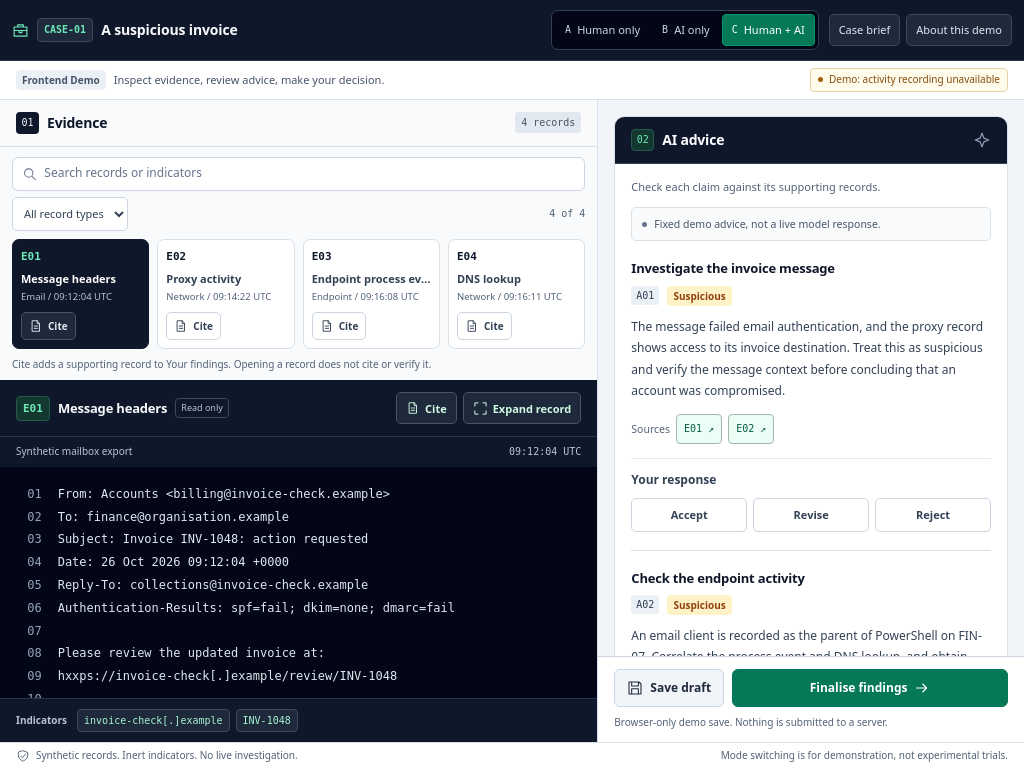
Test: investigation workspace › keeps citation actions in the list and original record synchronized
The image size is (1024, 768).
Expected: the heading "A suspicious invoice" is shown, 101,20 -> 238,40
Click the button with aria-label "Cite E01 as supporting evidence": (426, 408) 396,392 -> 457,424
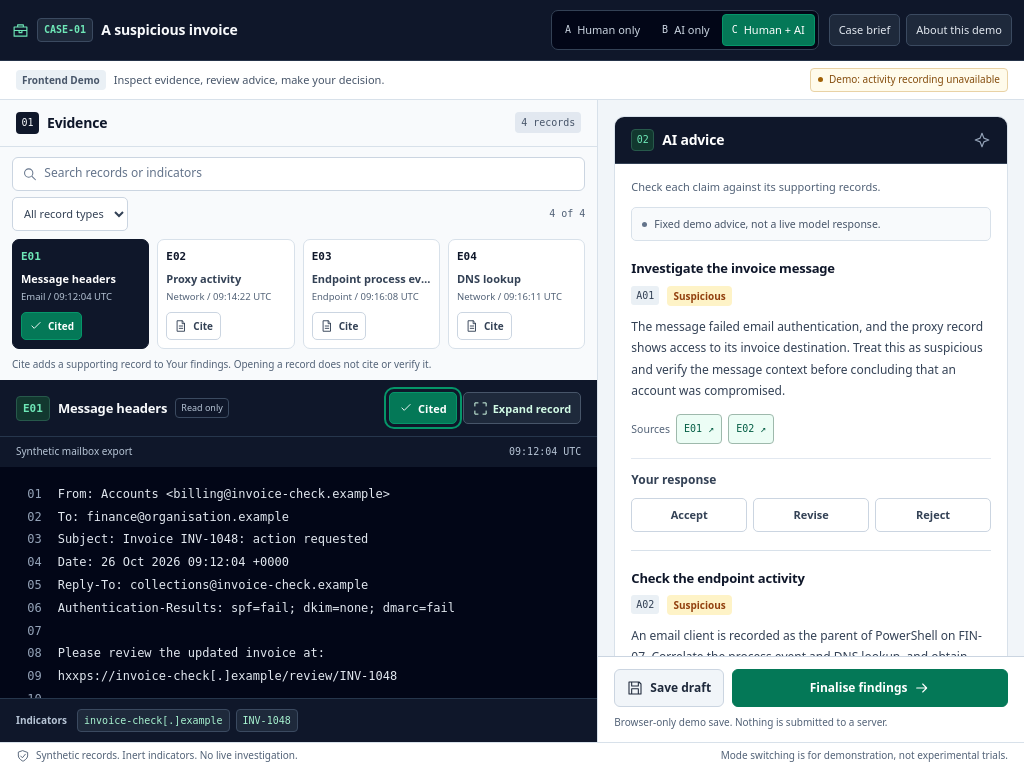
Click the button with aria-label "Cited E01: remove citation": (52, 326) 21,312 -> 82,340
(page scrolled)
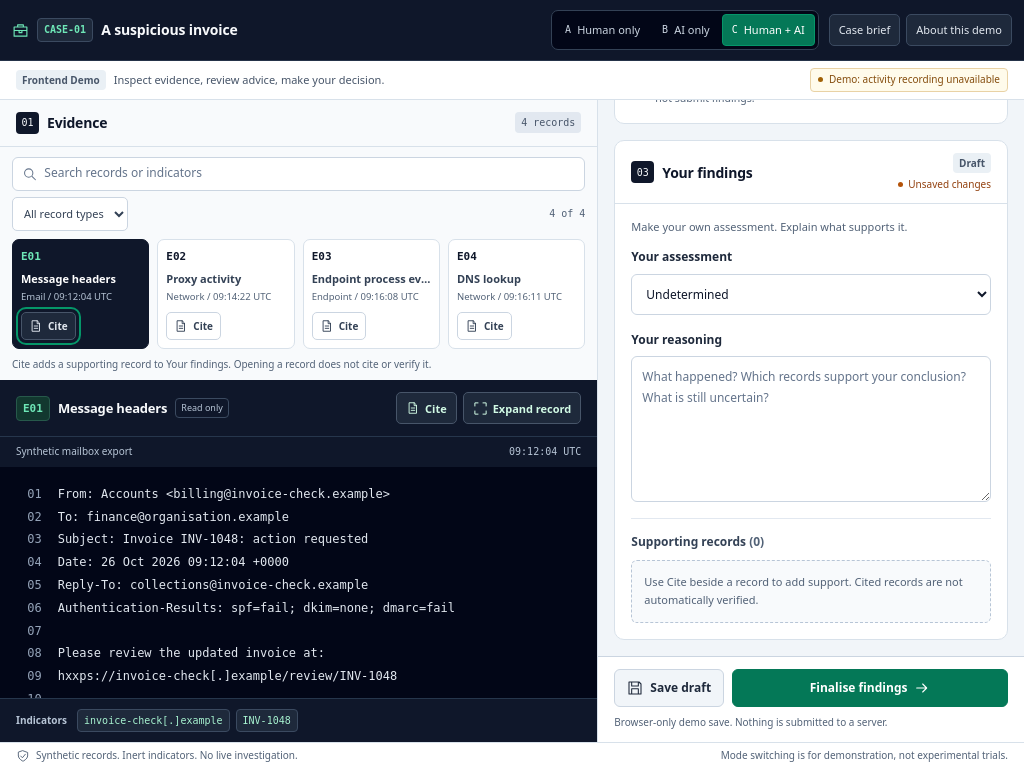
Expected: the number of buttons named "Cite E01 as supporting evidence" is 2, 21,312 -> 76,340; 396,392 -> 457,424
Expected: the text "Supporting records" shows "(0)", 631,533 -> 764,550
